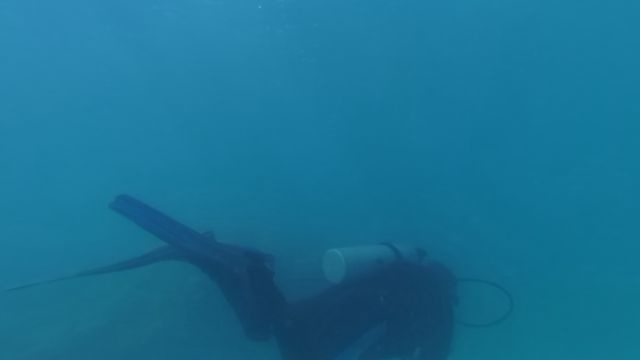Diver: (3, 170, 510, 355)
